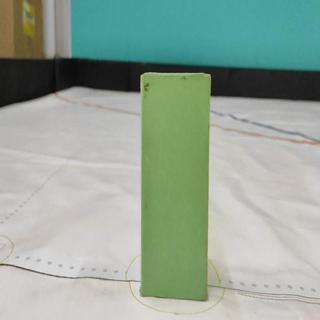greenbox: (140, 73, 211, 300)
